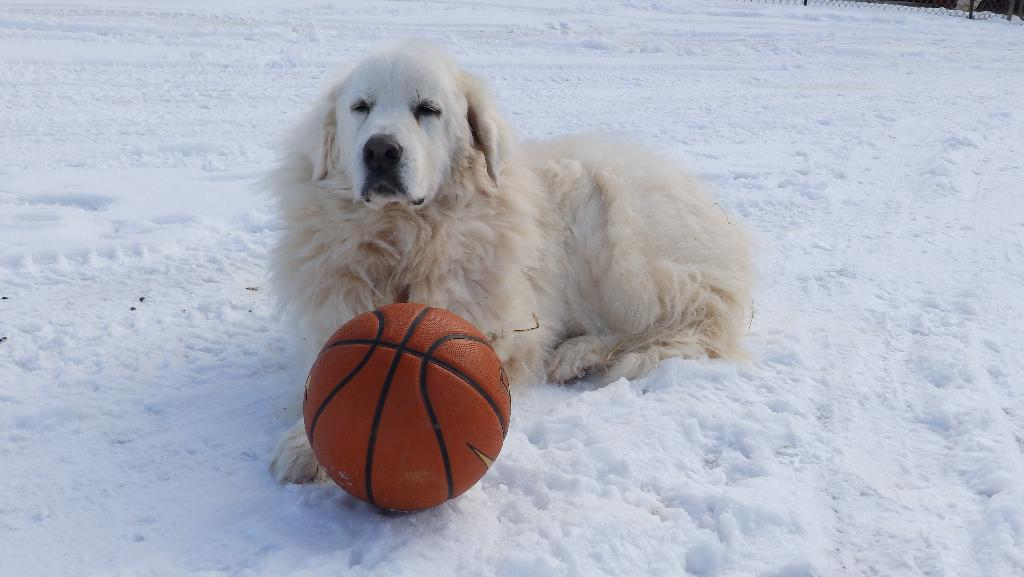Ball: (301, 304, 508, 512)
